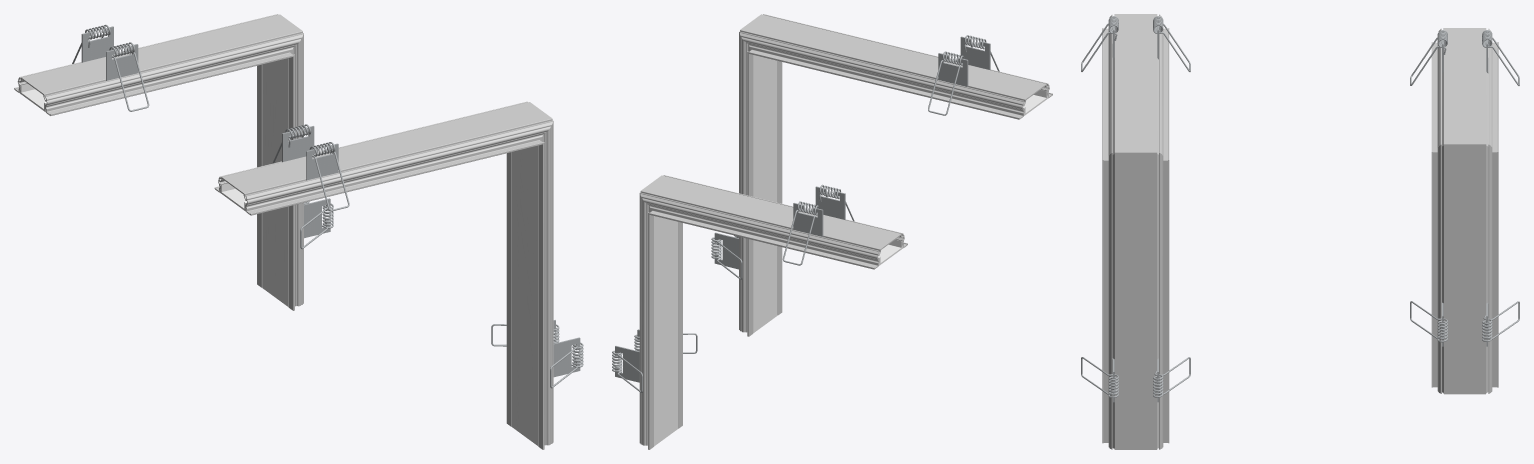
Rendered from Fit40SlimEmbutido-curva-teto-parede.glb.
3 renders of one model, left to right at view 1: azimuth 30°, elevation 25°; view 2: azimuth 150°, elevation 25°; view 3: azimuth 270°, elevation 25°, orthographic. The views are drawn at different scales.
Visible parts, largest first — view 1: 3DGeom-13 (×2), 3DGeom-1 (×2), 3DGeom-19, 3DGeom-7, 3DGeom-15 (×3), 3DGeom-3 (×3), 3DGeom-16; view 2: 3DGeom-13 (×2), 3DGeom-1 (×2), 3DGeom-19, 3DGeom-7, 3DGeom-15 (×3), 3DGeom-3 (×3), 3DGeom-16, 3DGeom-4; view 3: 3DGeom-13 (×2), 3DGeom-1 (×2).
Boxes of the visible parts, bbox=[...] form: 3DGeom-13 (×2): bbox=[214, 101, 553, 449]; 3DGeom-1 (×2): bbox=[14, 14, 303, 310]; 3DGeom-19: bbox=[512, 146, 538, 445]; 3DGeom-7: bbox=[262, 58, 288, 306]; 3DGeom-15 (×3): bbox=[282, 126, 580, 377]; 3DGeom-3 (×3): bbox=[81, 26, 330, 238]; 3DGeom-16: bbox=[309, 142, 349, 211]; 3DGeom-13 (×2): bbox=[739, 14, 1052, 336]; 3DGeom-1 (×2): bbox=[639, 175, 907, 449]; 3DGeom-19: bbox=[753, 55, 777, 332]; 3DGeom-7: bbox=[654, 216, 678, 446]; 3DGeom-15 (×3): bbox=[714, 36, 990, 269]; 3DGeom-3 (×3): bbox=[615, 186, 845, 382]; 3DGeom-16: bbox=[928, 51, 964, 115]; 3DGeom-4: bbox=[782, 201, 818, 265]; 3DGeom-13 (×2): bbox=[1102, 14, 1169, 449]; 3DGeom-1 (×2): bbox=[1431, 28, 1498, 394].
Bounding box in the file's own units: 0.2917 × 0.2739 × 0.3345.
3 materials, 1 textured.
